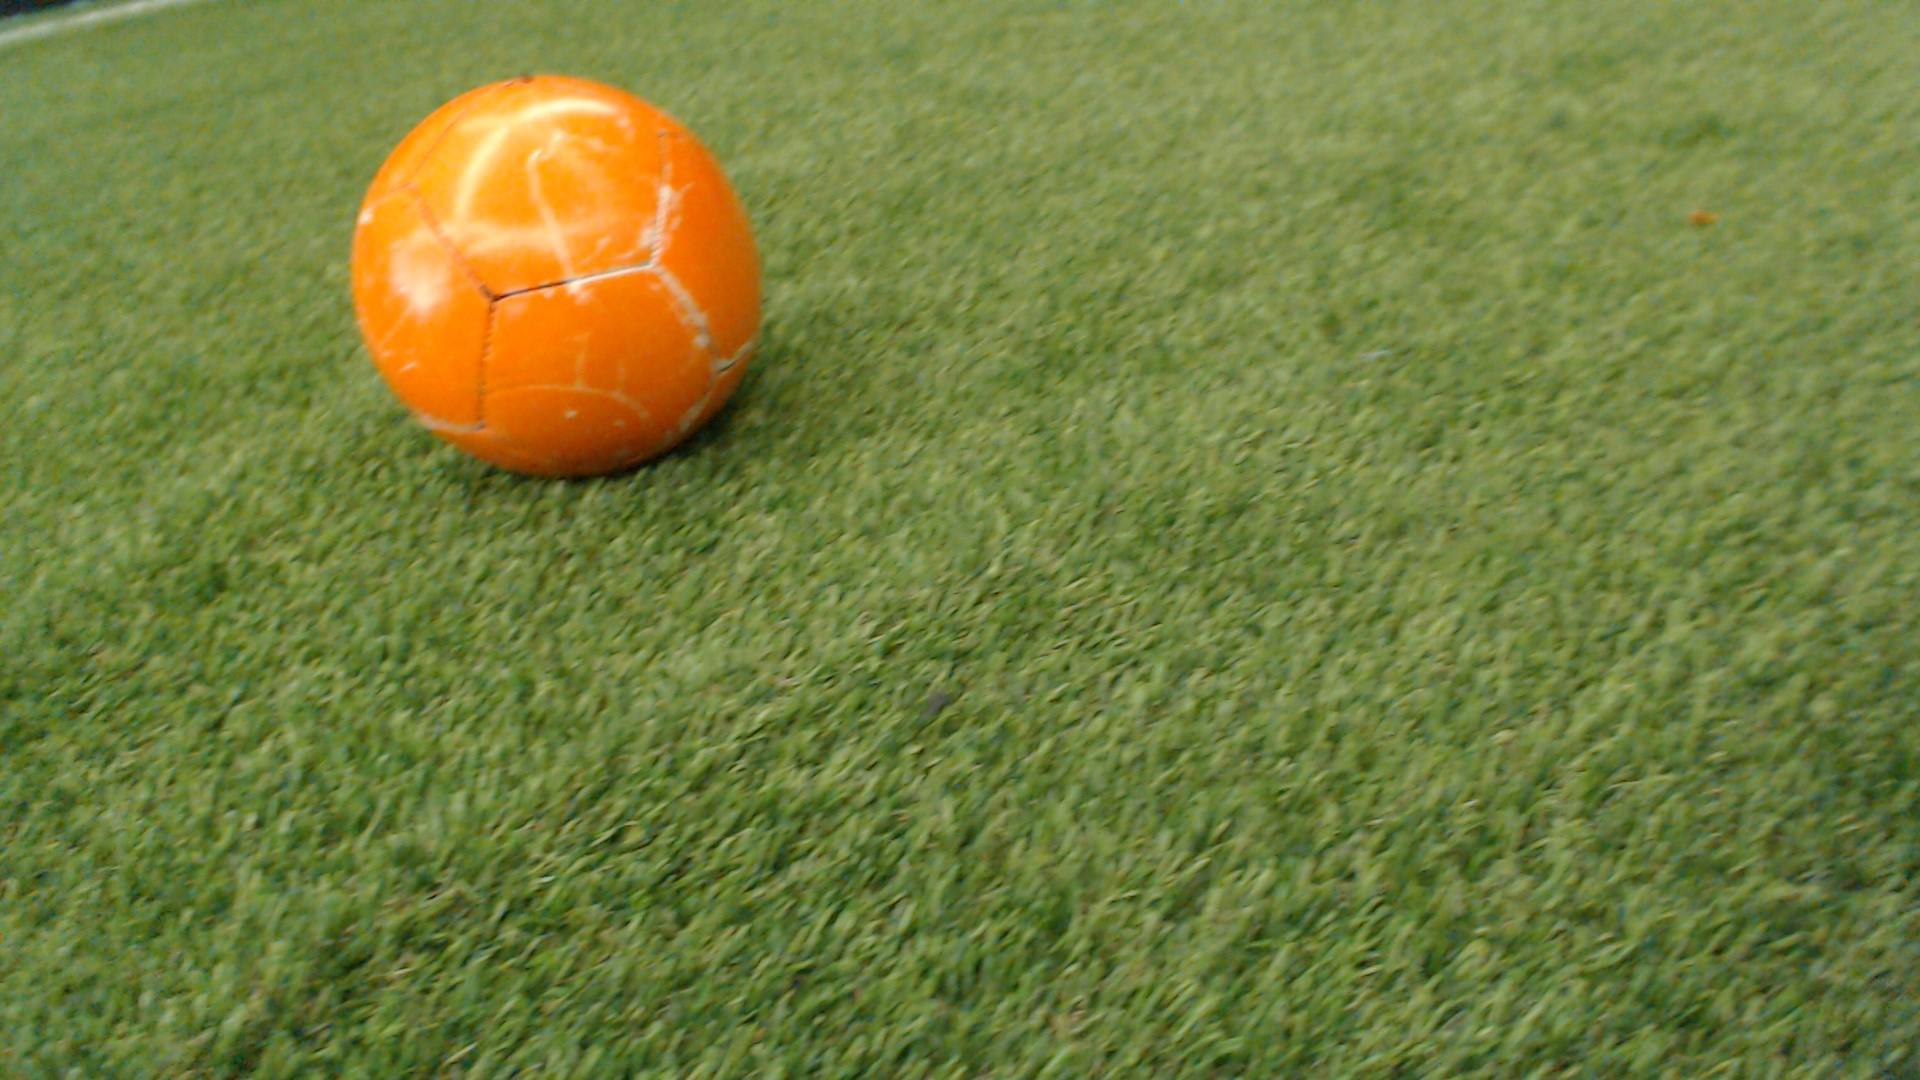bola: (327, 55, 839, 524)
